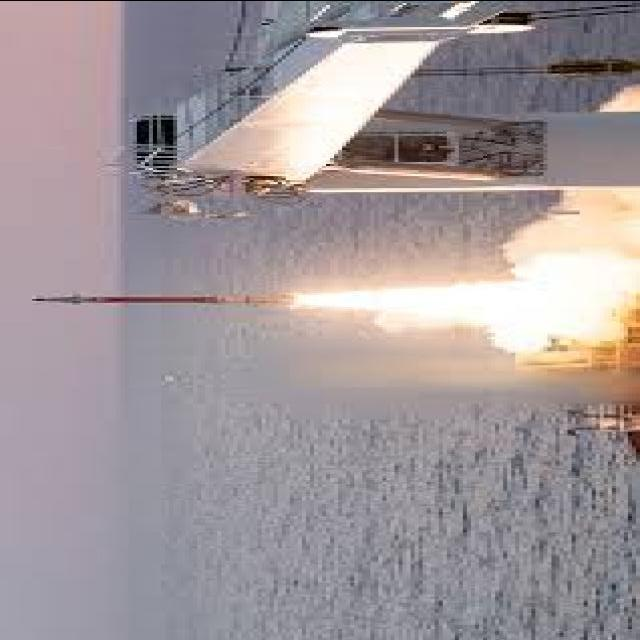Missile: (25, 291, 298, 306)
